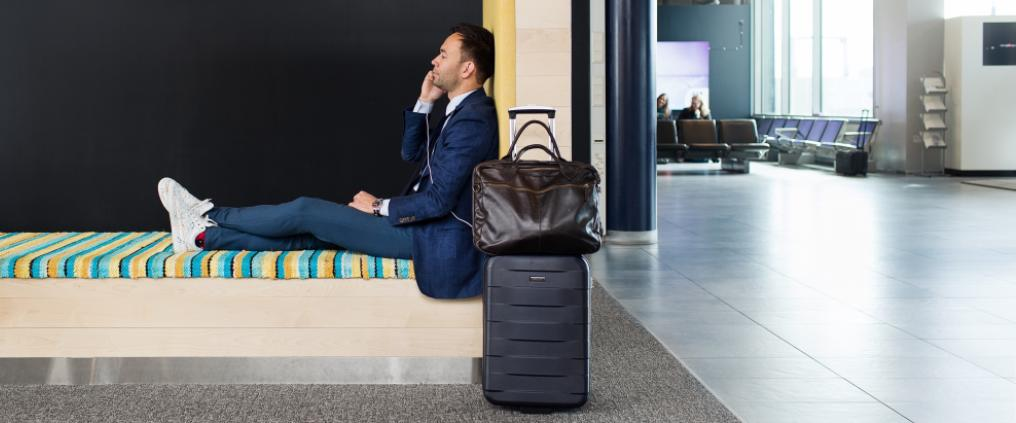bag: (463, 130, 614, 263)
luggage: (478, 100, 598, 413)
people: (151, 19, 506, 297)
